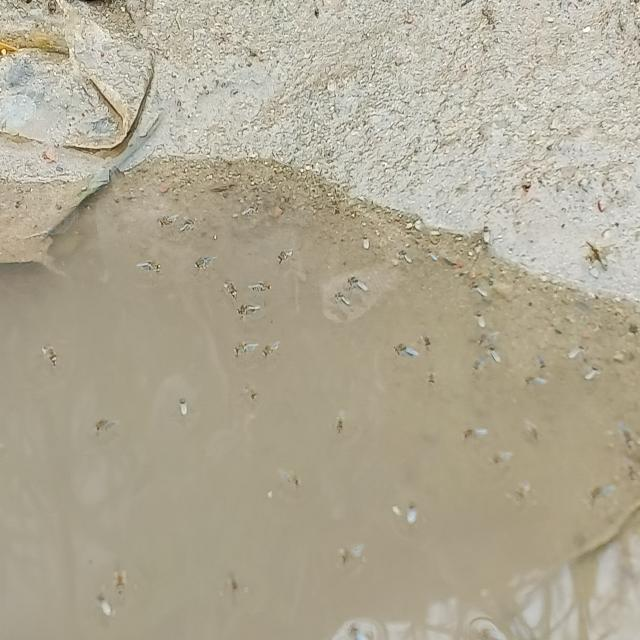Breeding Place: (0, 157, 640, 640)
